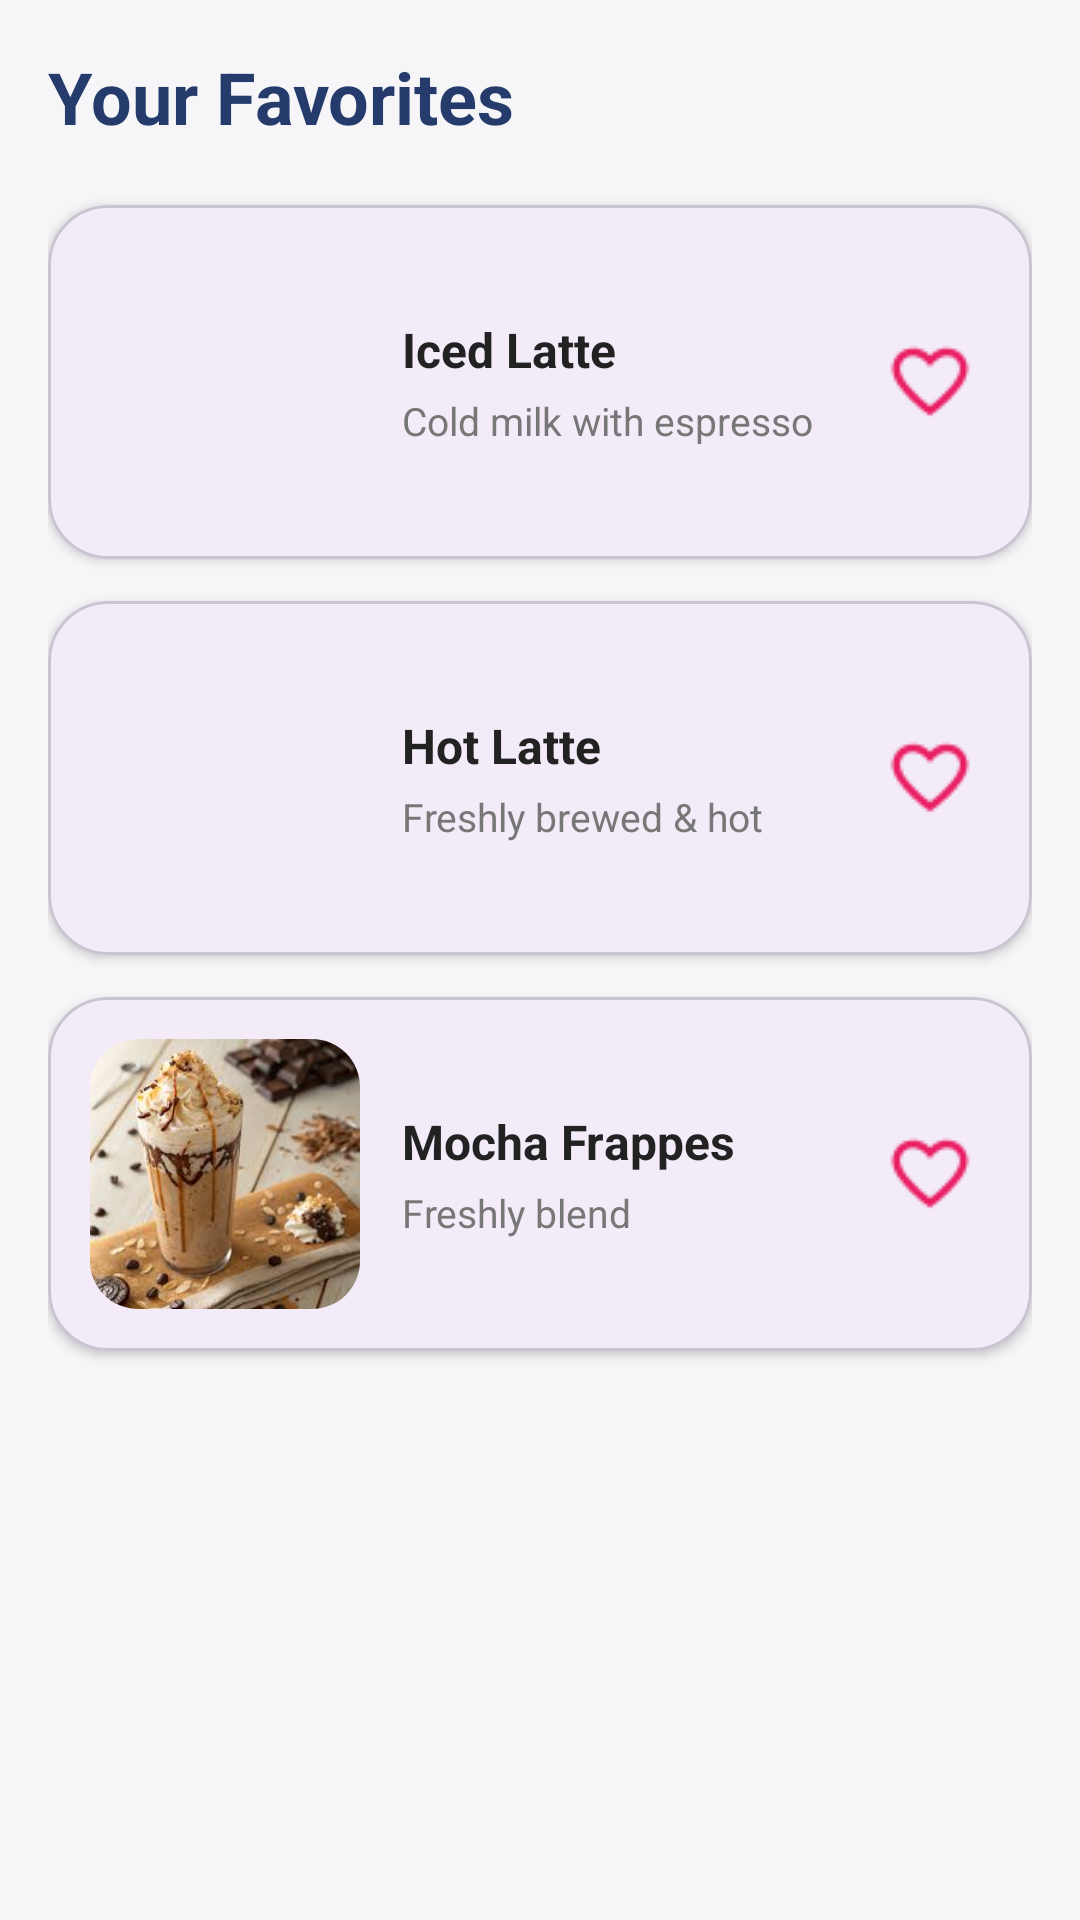

Icons on this 1080*1920 Android screen, each with the point to tap as (x=x, y=y):
love: (x=930, y=381), (x=930, y=777), (x=930, y=1173)
